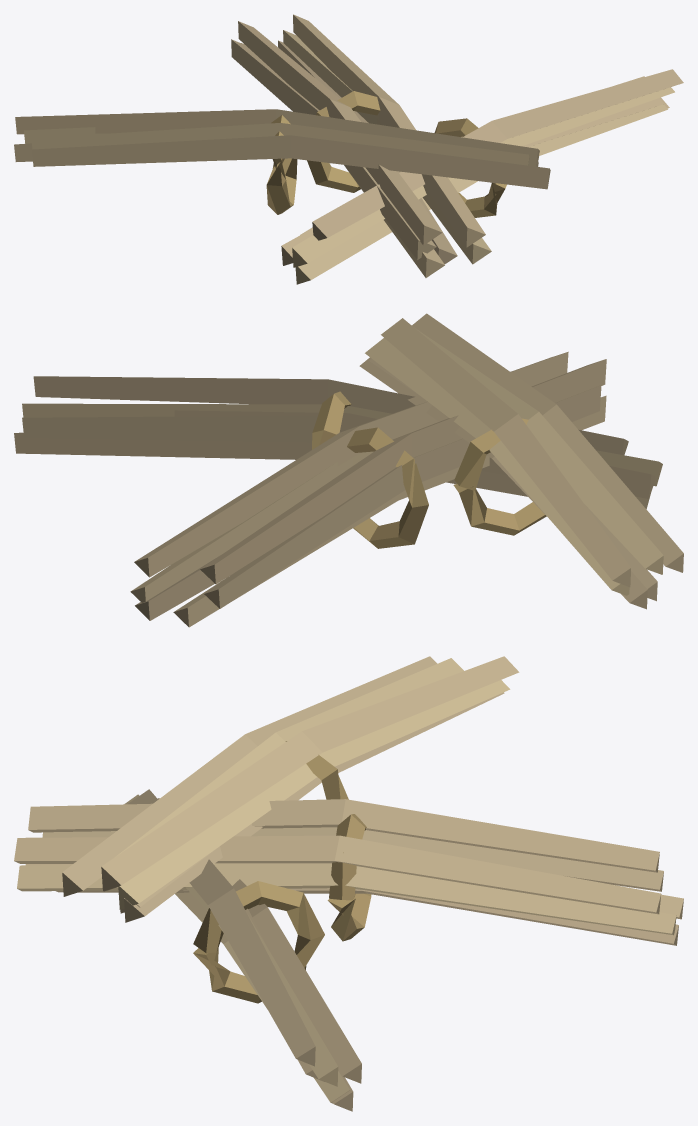
File: storage_sinew.glb
3 renders of one model, top to bottom at view 1: azimuth 30°, elevation 25°; view 2: azimuth 150°, elevation 25°; view 3: azimuth 270°, elevation 25°, orthographic. The views are drawn at different scales.
Parts seen in each view (by area): view 1: storage_sinew; view 2: storage_sinew; view 3: storage_sinew.
Boxes of the visible parts, box(x1,y1,x2,y2) form: storage_sinew: box(14, 14, 683, 284); storage_sinew: box(14, 313, 683, 627); storage_sinew: box(14, 656, 683, 1111).
Size of the model in its own units: 1.13 by 0.2497 by 0.895.
